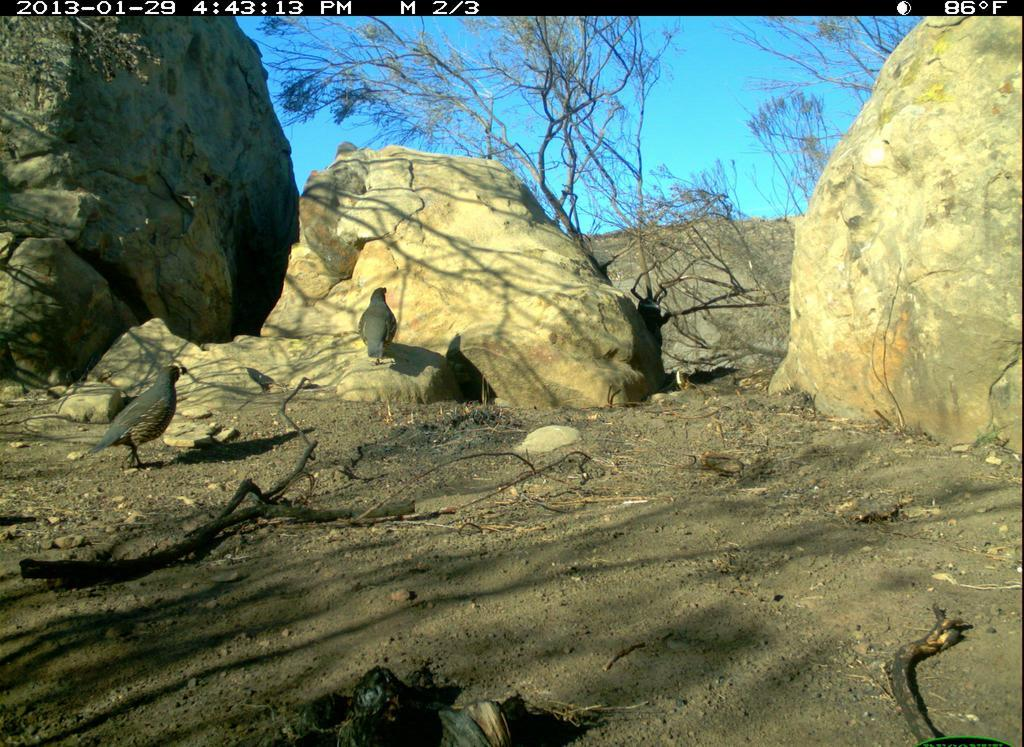bird: (88, 363, 189, 475), (359, 289, 399, 365)
